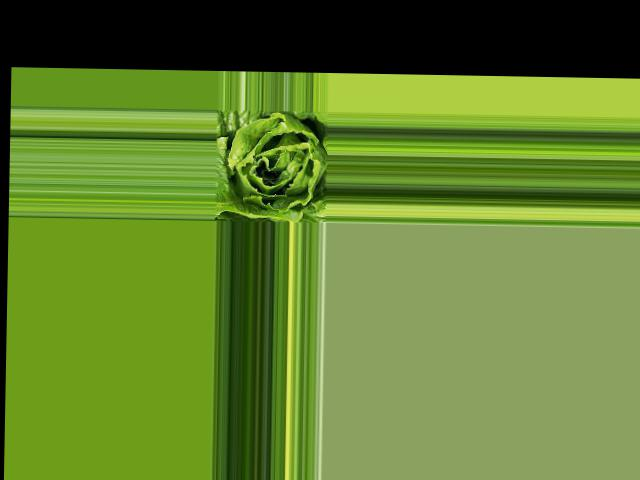lettuce: (214, 111, 326, 221)
